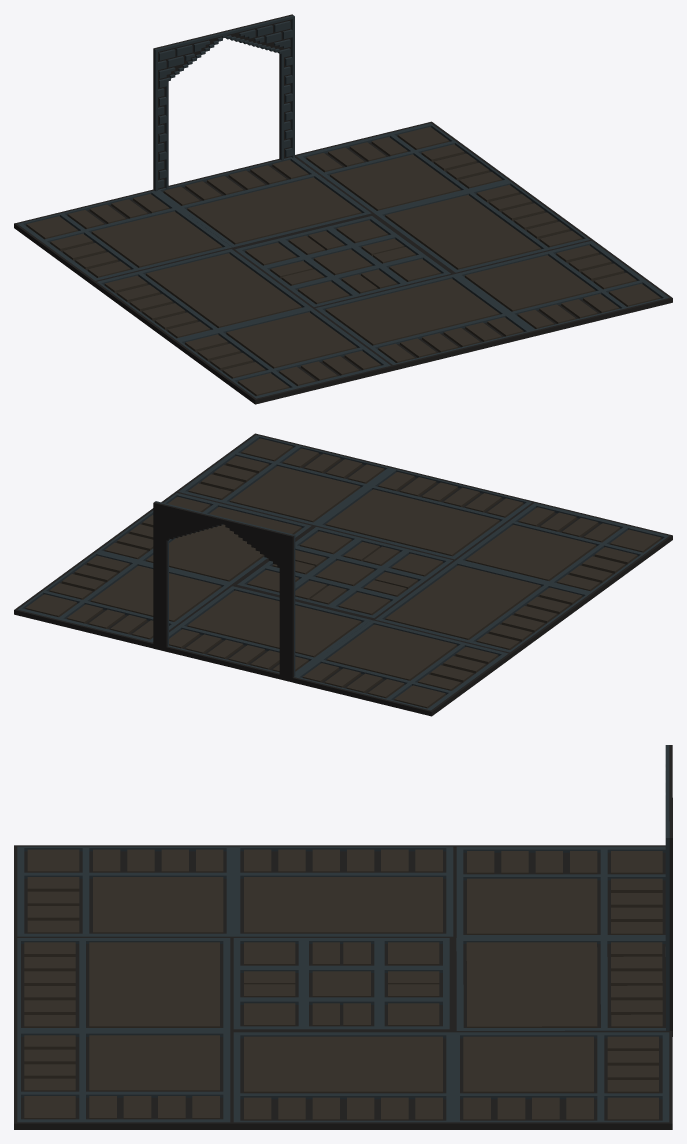
The model's file is corridor_point.dae.
The picture shows the model from 3 angles, top to bottom: view 1: azimuth 30°, elevation 25°; view 2: azimuth 150°, elevation 25°; view 3: azimuth 270°, elevation 25°; orthographic projection. The views are drawn at different scales.
Parts seen in each view (by area): view 1: ObjObject.009; view 2: ObjObject.009; view 3: ObjObject.009.
Boxes of the visible parts, box(x1,y1,x2,y2) form: ObjObject.009: box(14, 14, 672, 404); ObjObject.009: box(14, 433, 672, 716); ObjObject.009: box(14, 745, 672, 1129).
Size of the model in its own units: 19.2 by 19.21 by 6.4.
9 materials, 9 textured.
